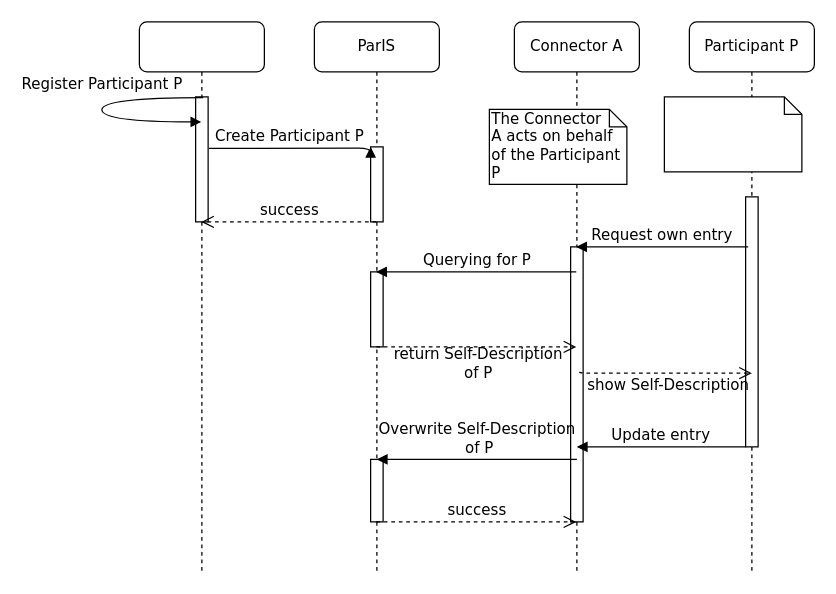
Some shapes in this 836 by 594 pixel diagram are drawn without their labels. The shapes that lost their labels are listed below. From the top down, each one's box as (x1, y1, x2, y2) in pixels, then its label:
(663, 96, 802, 172): P is the described entity by the newly added Self-Description.
(138, 21, 264, 572): Support Organization
